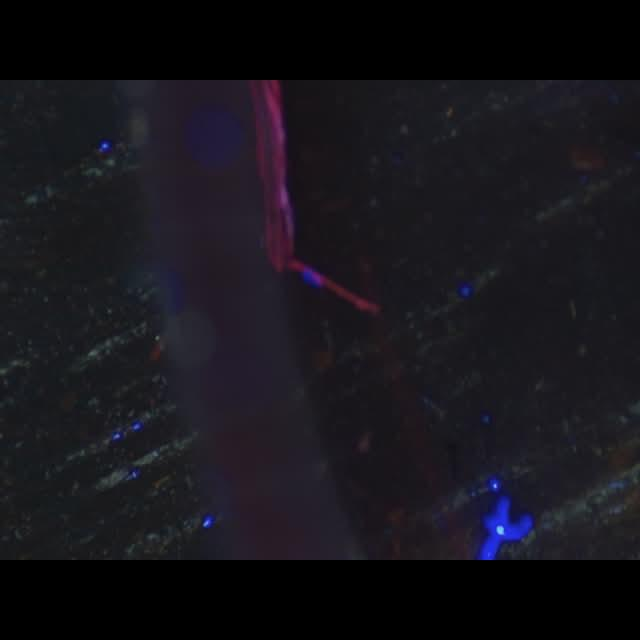Fibre: (288, 259, 380, 315)
